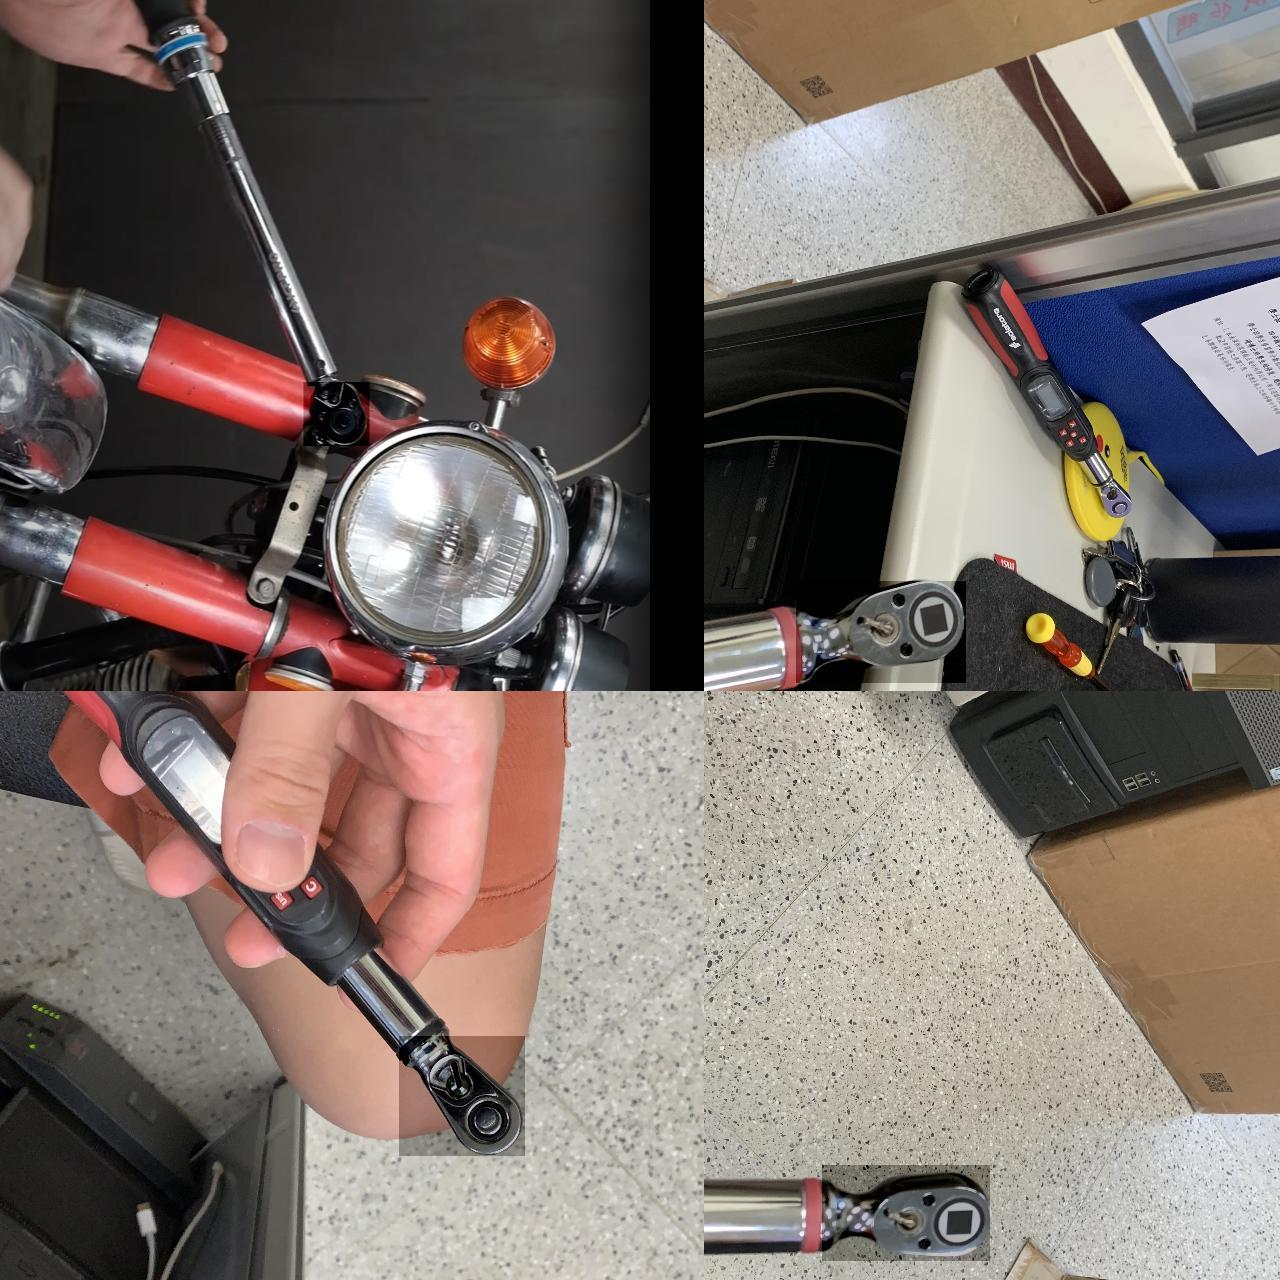Tool: (796, 580, 966, 682), (822, 1164, 990, 1260), (399, 1035, 525, 1155), (304, 381, 369, 444)
